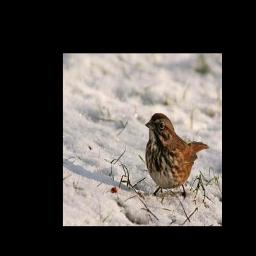Sparrow: (145, 111, 210, 199)
